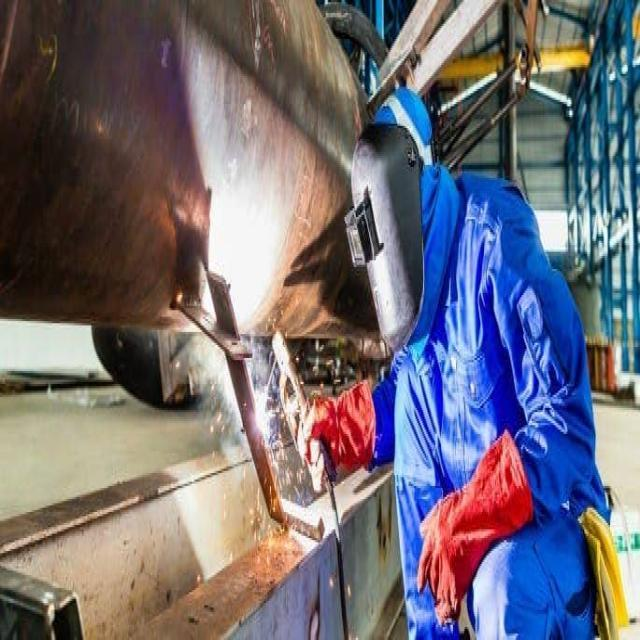with_helmet: (342, 107, 440, 360)
